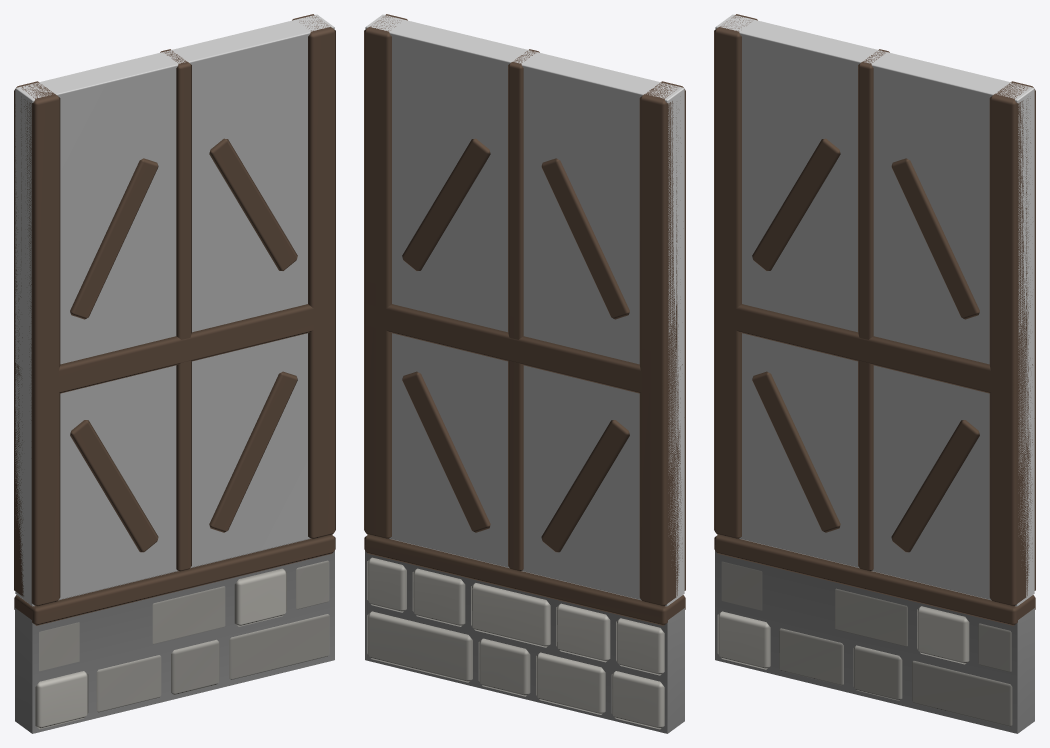
File: timber-wall-b.glb
3 views of the same model, side by side, from view 1: azimuth 30°, elevation 25°; view 2: azimuth 150°, elevation 25°; view 3: azimuth 330°, elevation 25° (orthographic).
Parts seen in each view (by area): view 1: body; view 2: body; view 3: body.
Boxes of the visible parts, x1=… form: body: x1=14, y1=14, x2=335, y2=733; body: x1=364, y1=14, x2=685, y2=733; body: x1=714, y1=14, x2=1035, y2=733.
Size of what is drawn, in the model's own units: 1 by 2 by 0.1321.
